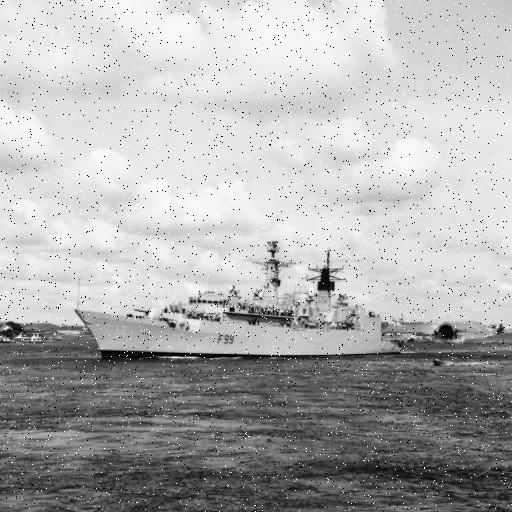Fragata: (71, 227, 400, 367)
